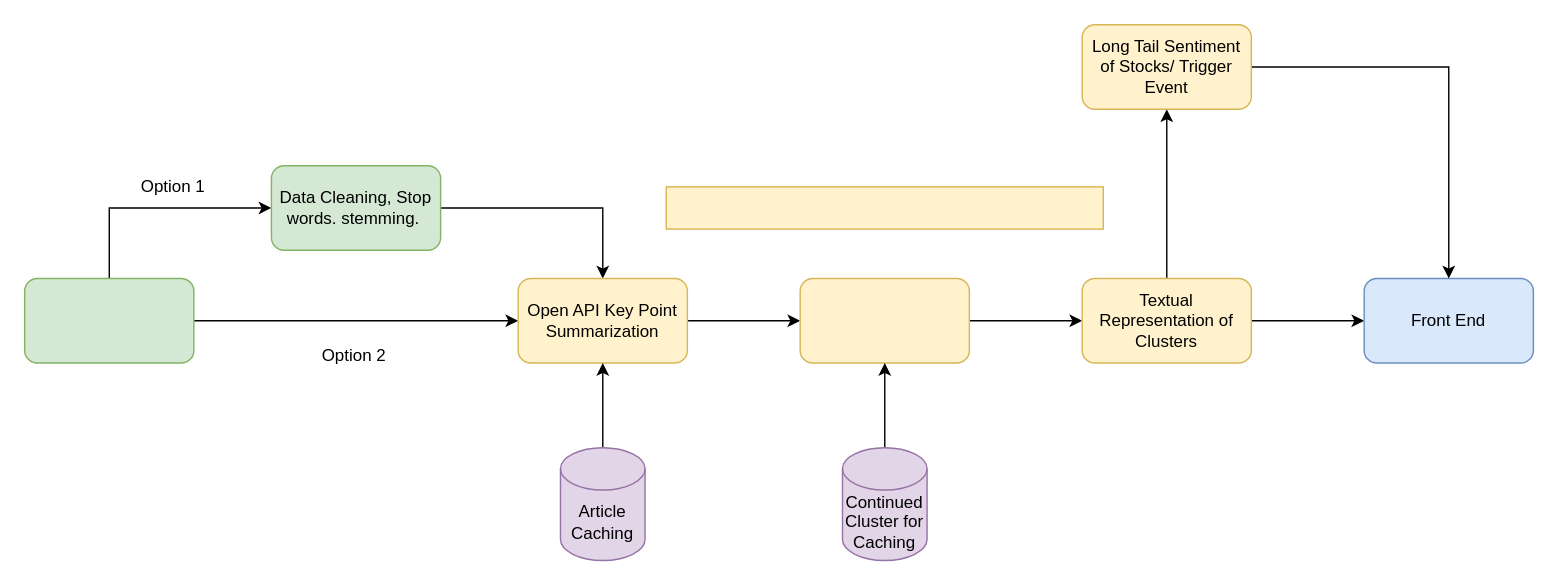
This 1558x585 diagram has some shape labels left out. Each missing label, with the centre of its shape:
"Google New API" belongs at pixel 108 320.
"Input Textual Source Clustering" belongs at pixel 884 320.
"Trigger Event identification and processing" belongs at pixel 884 207.
